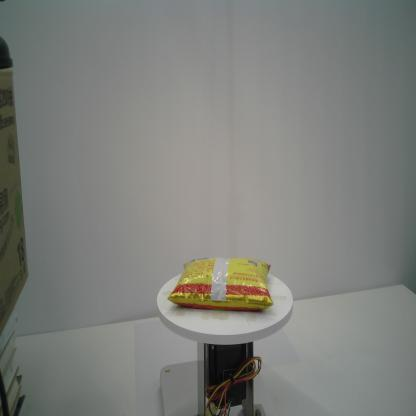Seasoner: (167, 254, 275, 312)
